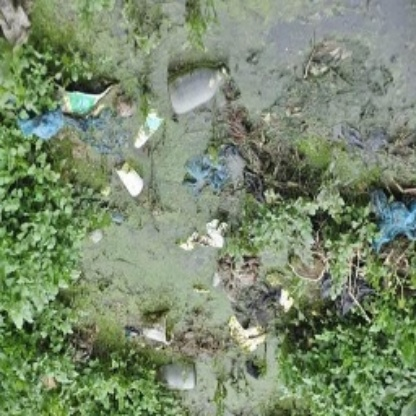bottle: (167, 61, 234, 119), (112, 161, 152, 200), (131, 108, 164, 153)
